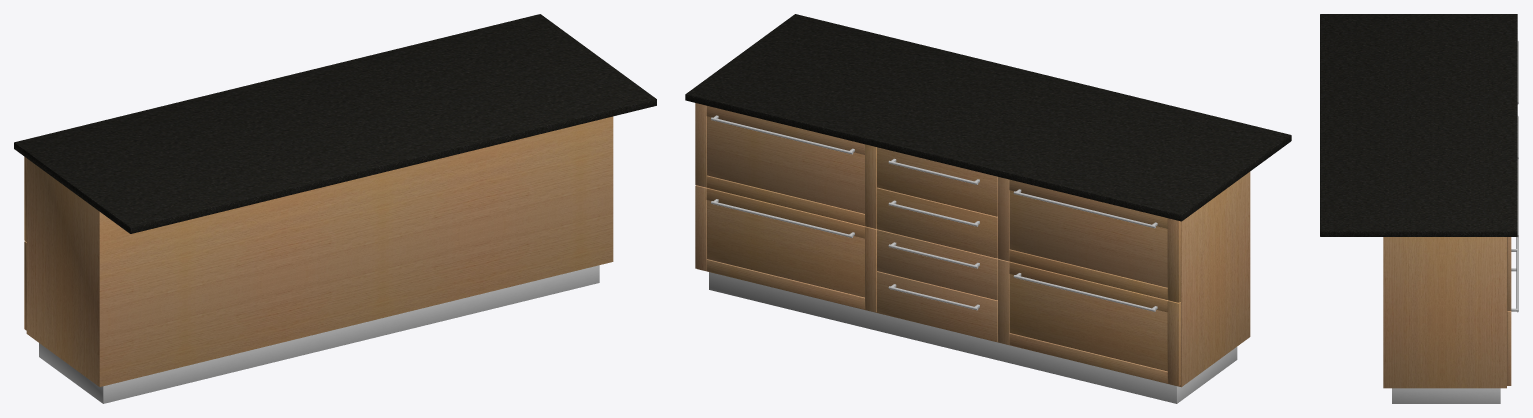
The model's file is reclDlCY2QE7FMdkg.glb.
The picture shows the model from 3 angles, left to right: view 1: azimuth 30°, elevation 25°; view 2: azimuth 150°, elevation 25°; view 3: azimuth 270°, elevation 25°; orthographic projection. The views are drawn at different scales.
Visible parts, largest first — view 1: Ilot; view 2: Ilot; view 3: Ilot.
Part boxes in pixels (bbox=[...]): Ilot: bbox=[14, 14, 656, 403]; Ilot: bbox=[685, 14, 1291, 403]; Ilot: bbox=[1320, 14, 1518, 403].
Size of the model in its own units: 2.44 by 0.935 by 0.942.
3 materials, 3 textured.
